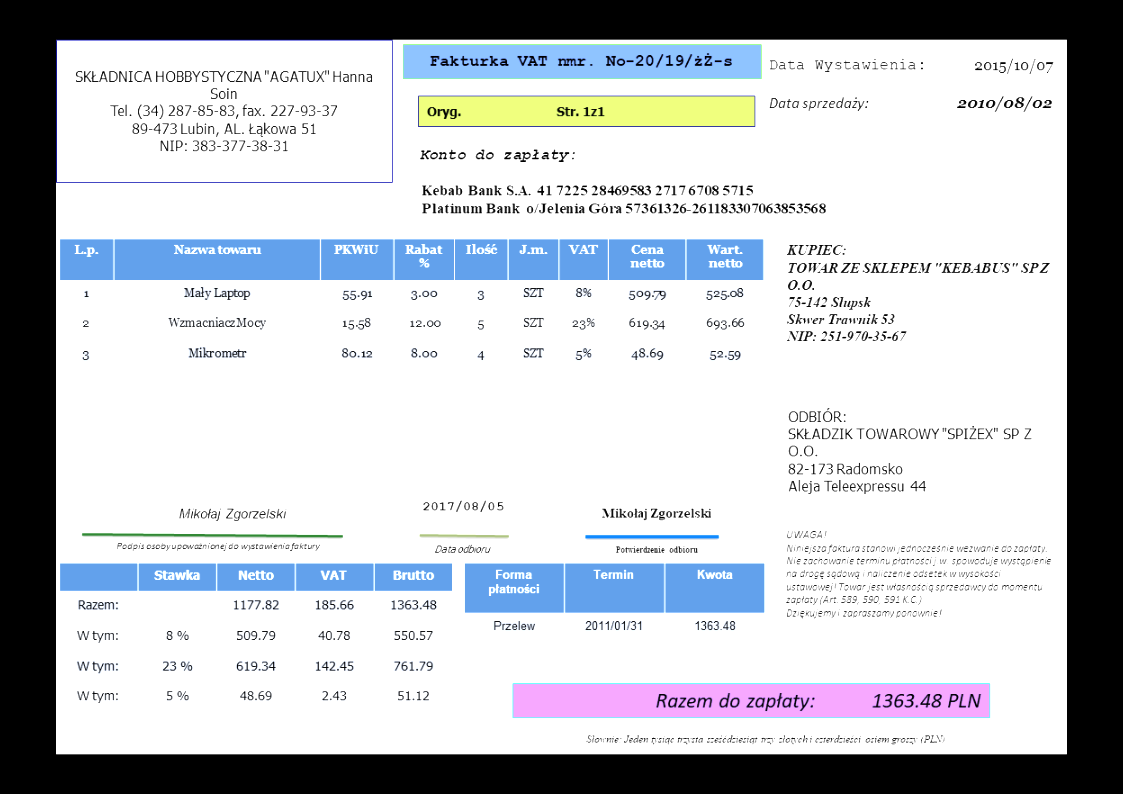Table: (58, 238, 765, 374), (57, 562, 455, 714), (462, 561, 766, 652)
TextBox: (783, 240, 1057, 347), (72, 67, 376, 158), (783, 528, 1052, 621), (785, 404, 1035, 499), (418, 181, 829, 217), (653, 689, 983, 714), (427, 51, 736, 70), (584, 731, 948, 747), (424, 102, 607, 123), (416, 145, 579, 165), (767, 56, 926, 76), (114, 539, 323, 552), (597, 504, 714, 523), (954, 94, 1054, 115), (177, 505, 291, 523), (766, 95, 870, 114), (419, 496, 505, 517), (971, 56, 1055, 77), (611, 543, 700, 556), (432, 542, 494, 556)
